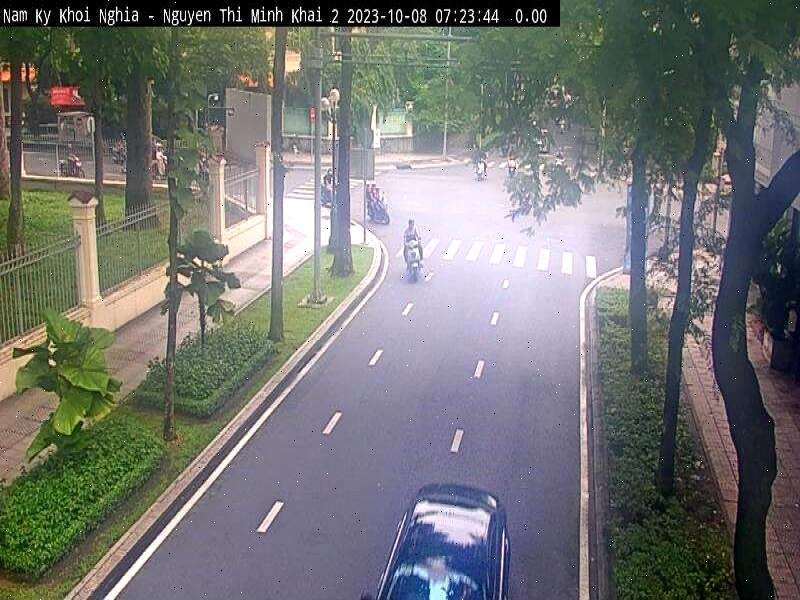car: (364, 482, 505, 600)
motorcycle: (390, 242, 437, 276)
